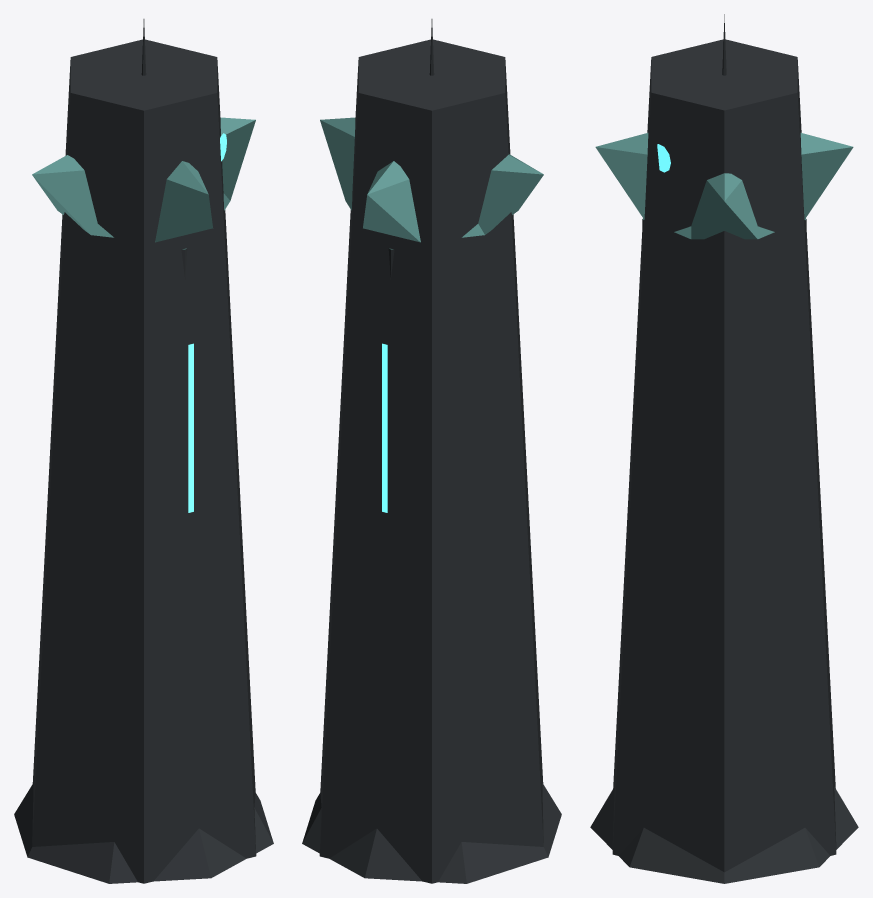
The model's file is alien_diplomatic_tower.glb.
The picture shows the model from 3 angles, left to right: view 1: azimuth 30°, elevation 25°; view 2: azimuth 150°, elevation 25°; view 3: azimuth 270°, elevation 25°; orthographic projection.
Parts seen in each view (by area): view 1: glasswharf_dock_alien_diplomatic_tower_col, glasswharf_dock_alien_diplomatic_tower_LOD0; view 2: glasswharf_dock_alien_diplomatic_tower_col, glasswharf_dock_alien_diplomatic_tower_LOD0; view 3: glasswharf_dock_alien_diplomatic_tower_col, glasswharf_dock_alien_diplomatic_tower_LOD0.
Part boxes in pixels (x1,y1,x2,y2): glasswharf_dock_alien_diplomatic_tower_col: (32, 39, 256, 883); glasswharf_dock_alien_diplomatic_tower_LOD0: (14, 19, 273, 883); glasswharf_dock_alien_diplomatic_tower_col: (319, 39, 543, 883); glasswharf_dock_alien_diplomatic_tower_LOD0: (302, 19, 561, 883); glasswharf_dock_alien_diplomatic_tower_col: (612, 39, 836, 872); glasswharf_dock_alien_diplomatic_tower_LOD0: (590, 14, 858, 883).
Size of what is drawn, in the model's own units: 10.8 by 36.1 by 10.8.
